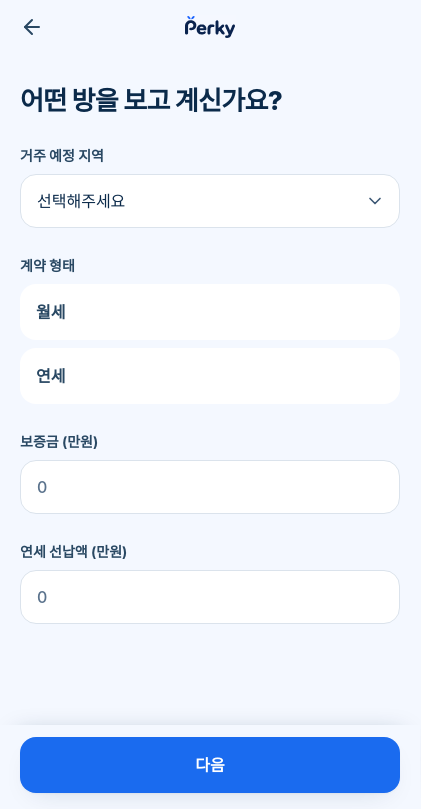
Scenario: 계약 형태 › 고르지 않고 다음을 누르면 넘어가지 않고 이유를 말한다
Select "전북특별자치도 익산시" in the dropdown at (210, 201), box left=20, top=174, right=400, bottom=228
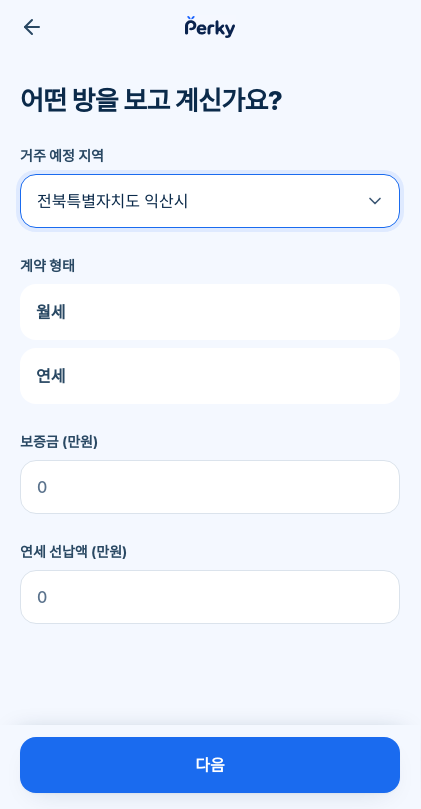
Click the button "다음" at (210, 765), box left=20, top=737, right=400, bottom=793
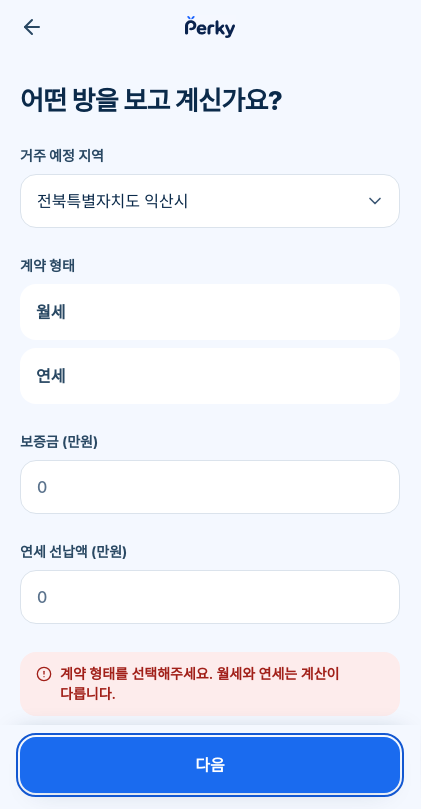
Now the text "계약 형태를 선택해주세요. 월세와 연세는 계산이 다릅니다." is shown, box left=60, top=664, right=384, bottom=704
